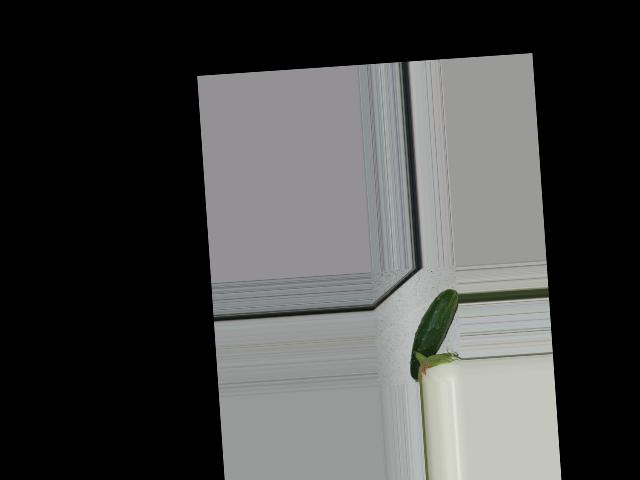cucumber: (405, 288, 464, 382)
